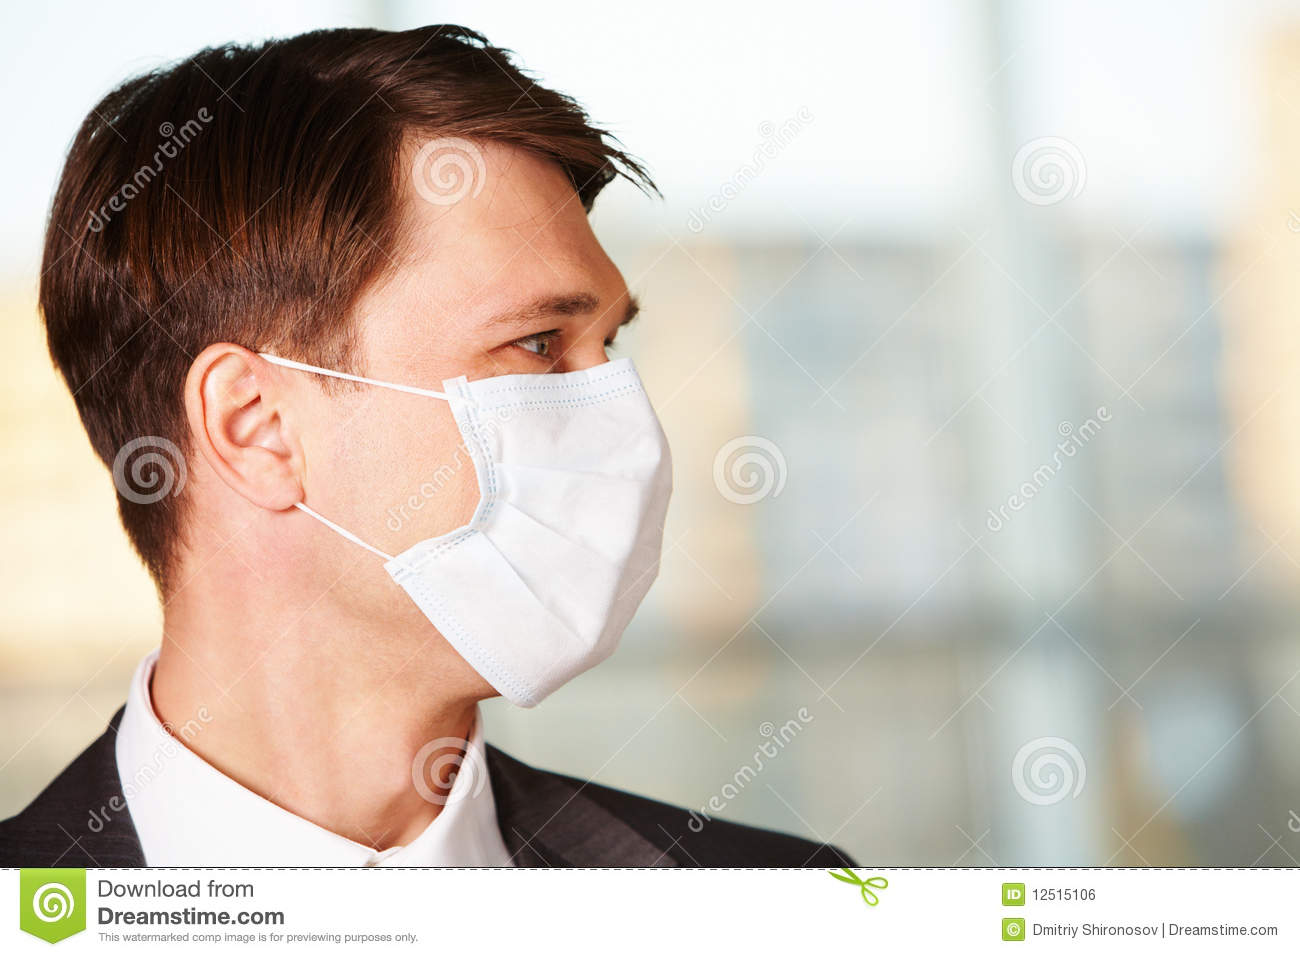mask: (390, 364, 672, 705)
